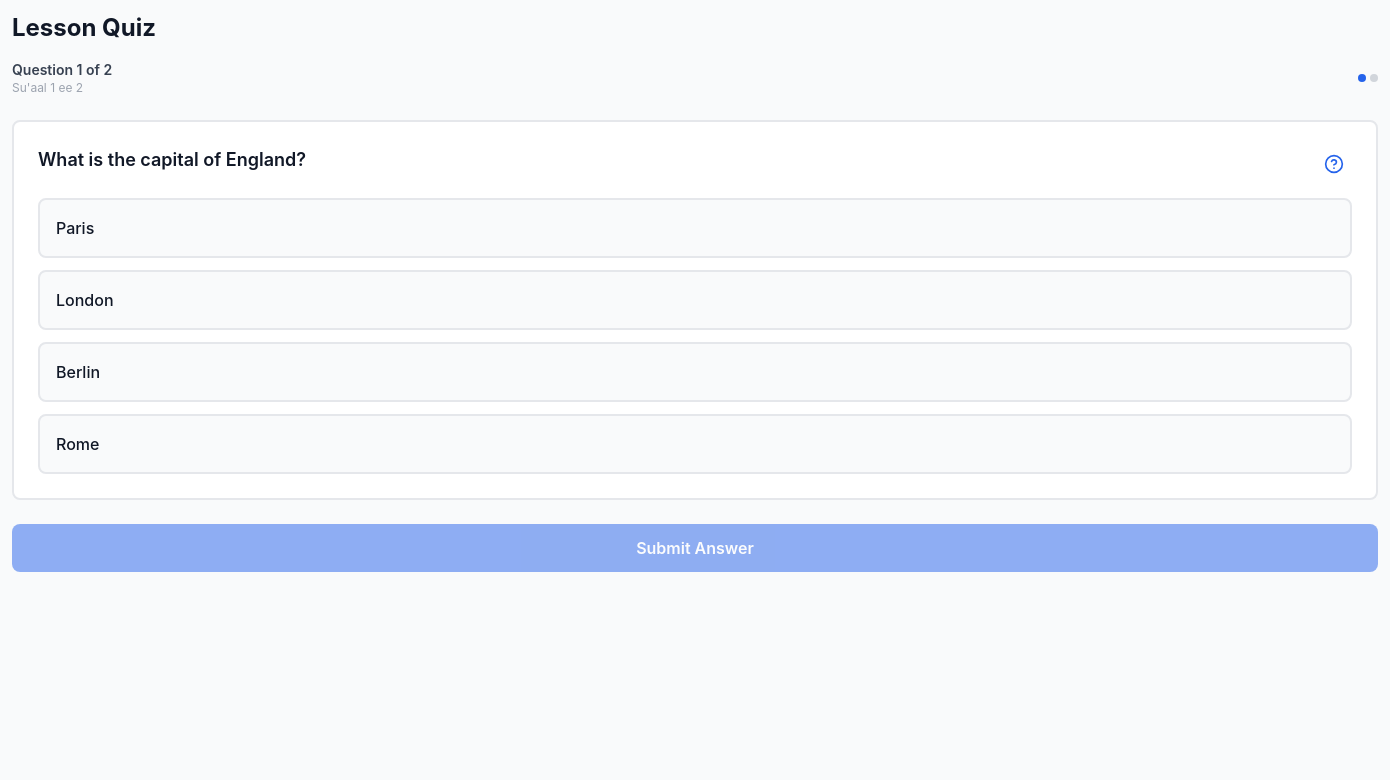
Quiz component › shows the explanation after selecting an answer
This screenshot has width=1390, height=780.
Click the button "London". click: (85, 300)
box: [38,270,1352,330]
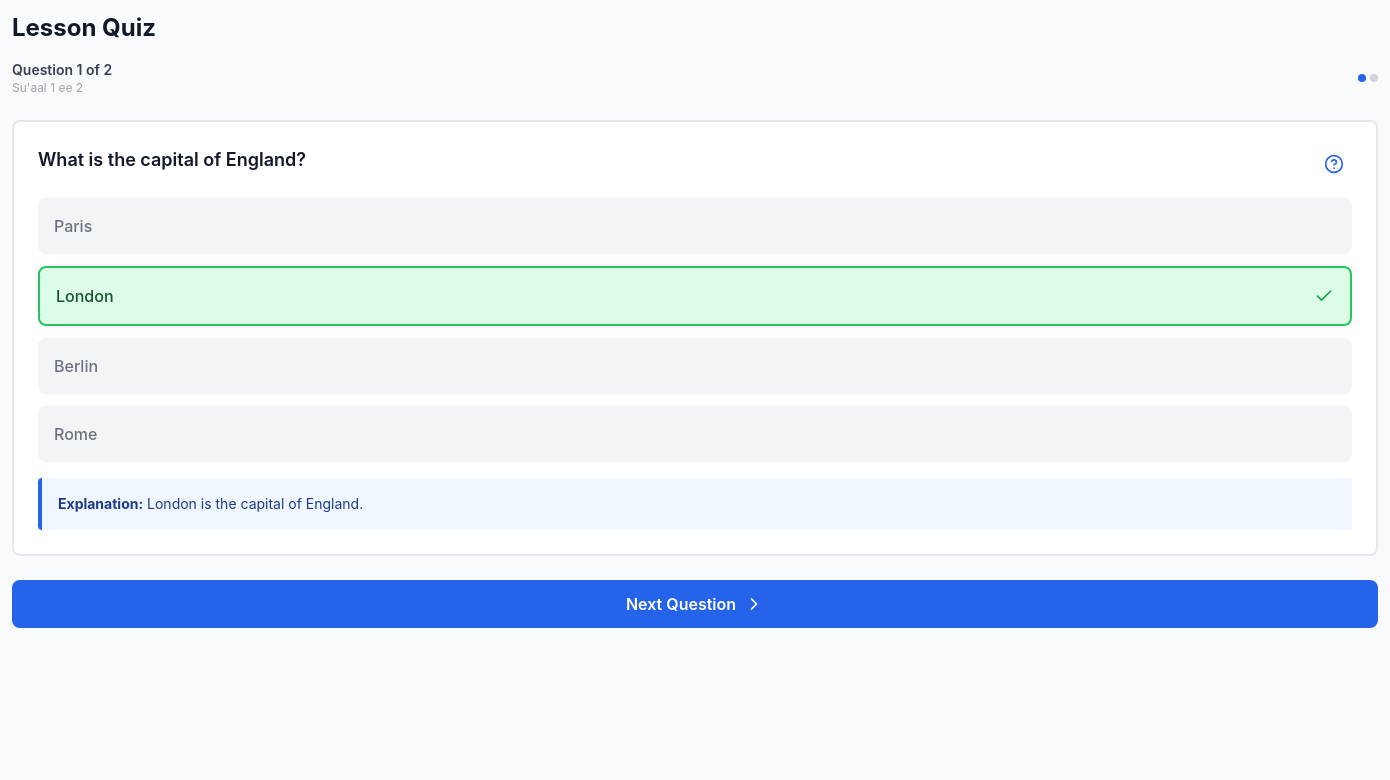
Expected: the text "Explanation: London is the capital of England." is shown, [58,495,363,512]
